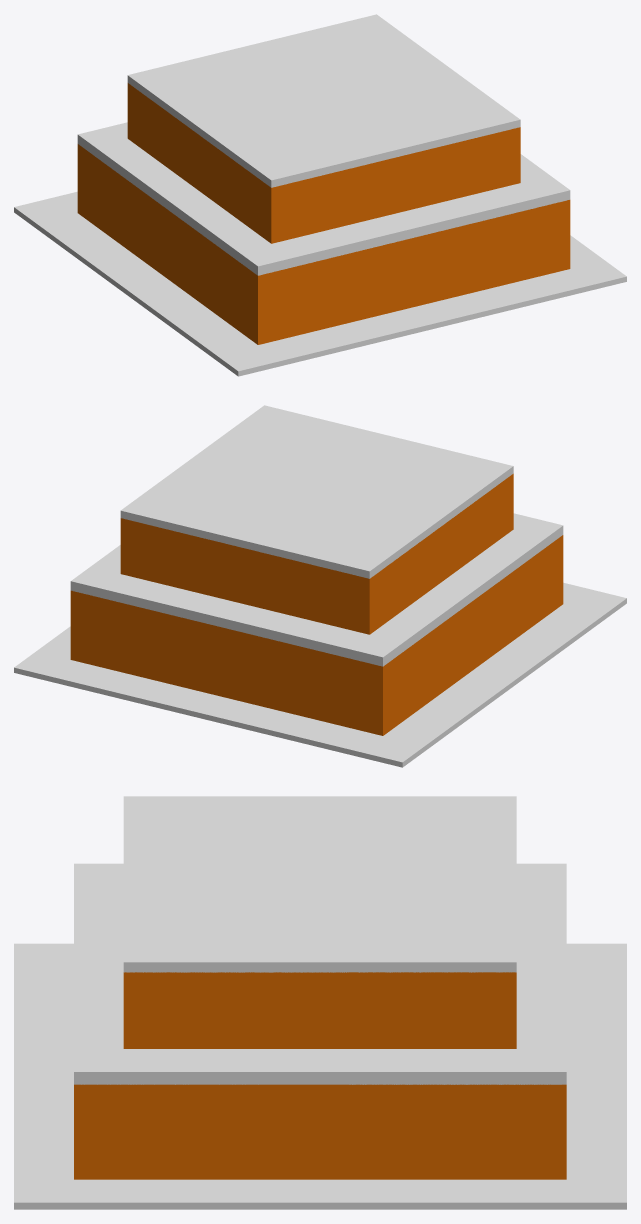
Rendered from CAKE C 2 layers.glb.
The picture shows the model from 3 angles, top to bottom: view 1: azimuth 30°, elevation 25°; view 2: azimuth 150°, elevation 25°; view 3: azimuth 270°, elevation 25°; orthographic projection. The views are drawn at different scales.
Parts seen in each view (by area): view 1: base top 2, base bot 3, base bot 2, plate 3, base top 3; view 2: base top 2, base bot 3, base bot 2, plate 3, base top 3; view 3: base top 2, plate 3, base bot 3, base top 3, base bot 2.
Part boxes in pixels (bbox=[...]): base top 2: bbox=[127, 14, 520, 187]; base bot 3: bbox=[77, 144, 570, 344]; base bot 2: bbox=[127, 83, 520, 243]; plate 3: bbox=[14, 191, 626, 376]; base top 3: bbox=[77, 122, 570, 275]; base top 2: bbox=[120, 405, 513, 578]; base bot 3: bbox=[70, 535, 563, 735]; base bot 2: bbox=[120, 473, 513, 634]; plate 3: bbox=[14, 582, 626, 767]; base top 3: bbox=[70, 513, 563, 666]; base top 2: bbox=[123, 796, 516, 972]; plate 3: bbox=[14, 943, 626, 1209]; base bot 3: bbox=[74, 1084, 566, 1179]; base top 3: bbox=[74, 863, 566, 1084]; base bot 2: bbox=[123, 972, 516, 1048].
Bounding box in the file's own units: 2 × 0.7322 × 2.
